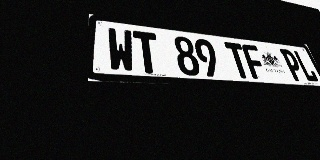8: (172, 35, 201, 76)
9: (193, 38, 222, 77)
F: (241, 44, 269, 79)
L: (292, 50, 320, 82)
P: (279, 48, 307, 81)
T: (133, 30, 162, 74), (224, 42, 252, 79)
W: (107, 27, 136, 73)
